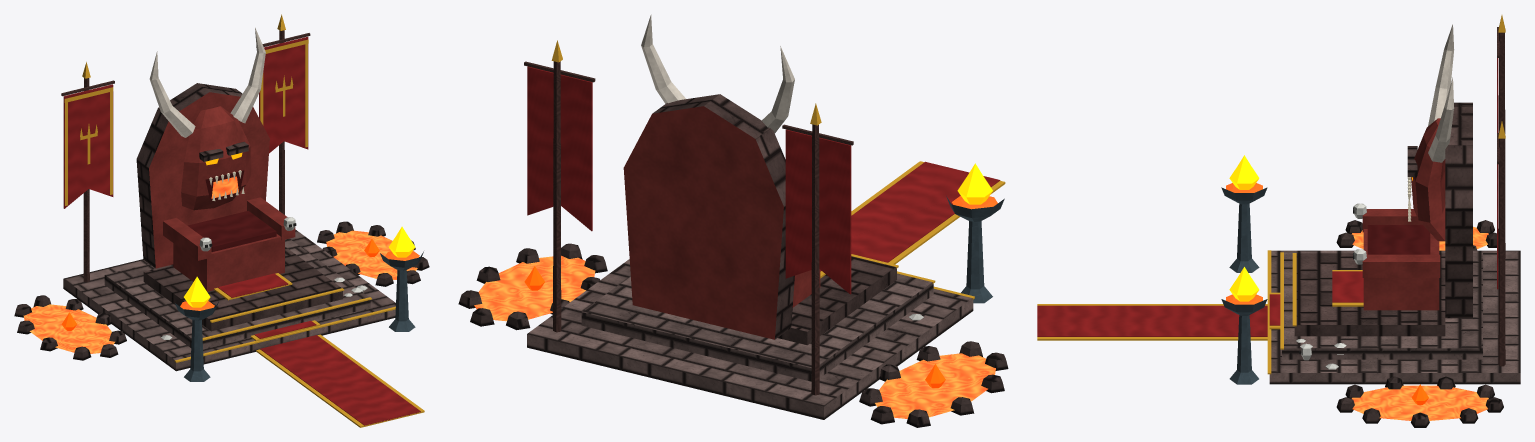
The model's file is throne.glb.
The picture shows the model from 3 angles, left to right: view 1: azimuth 30°, elevation 25°; view 2: azimuth 150°, elevation 25°; view 3: azimuth 270°, elevation 25°; orthographic projection. The views are drawn at different scales.
Visible parts, largest first — view 1: base_mesh, flame_3_mesh, flame_4_mesh, flame_0_mesh; view 2: base_mesh, flame_3_mesh; view 3: base_mesh, flame_4_mesh, flame_3_mesh.
Part boxes in pixels (x1,y1,x2,y2): base_mesh: [14, 14, 429, 427]; flame_3_mesh: [184, 276, 210, 307]; flame_4_mesh: [389, 226, 415, 257]; flame_0_mesh: [211, 176, 238, 198]; base_mesh: [458, 14, 1008, 427]; flame_3_mesh: [957, 163, 992, 204]; base_mesh: [1037, 15, 1520, 427]; flame_4_mesh: [1229, 267, 1259, 301]; flame_3_mesh: [1229, 155, 1259, 189].
Bounding box in the file's own units: 3.94 × 2.4 × 3.85.
21 materials, 11 textured.
